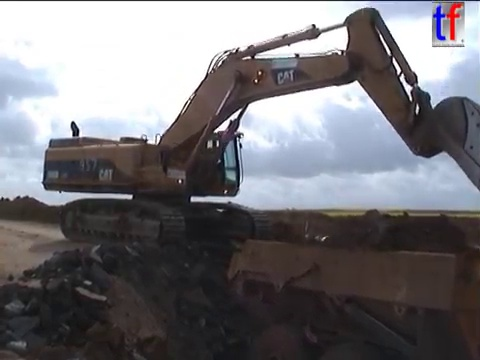excavator: (38, 5, 480, 254)
truck: (223, 214, 480, 360)
